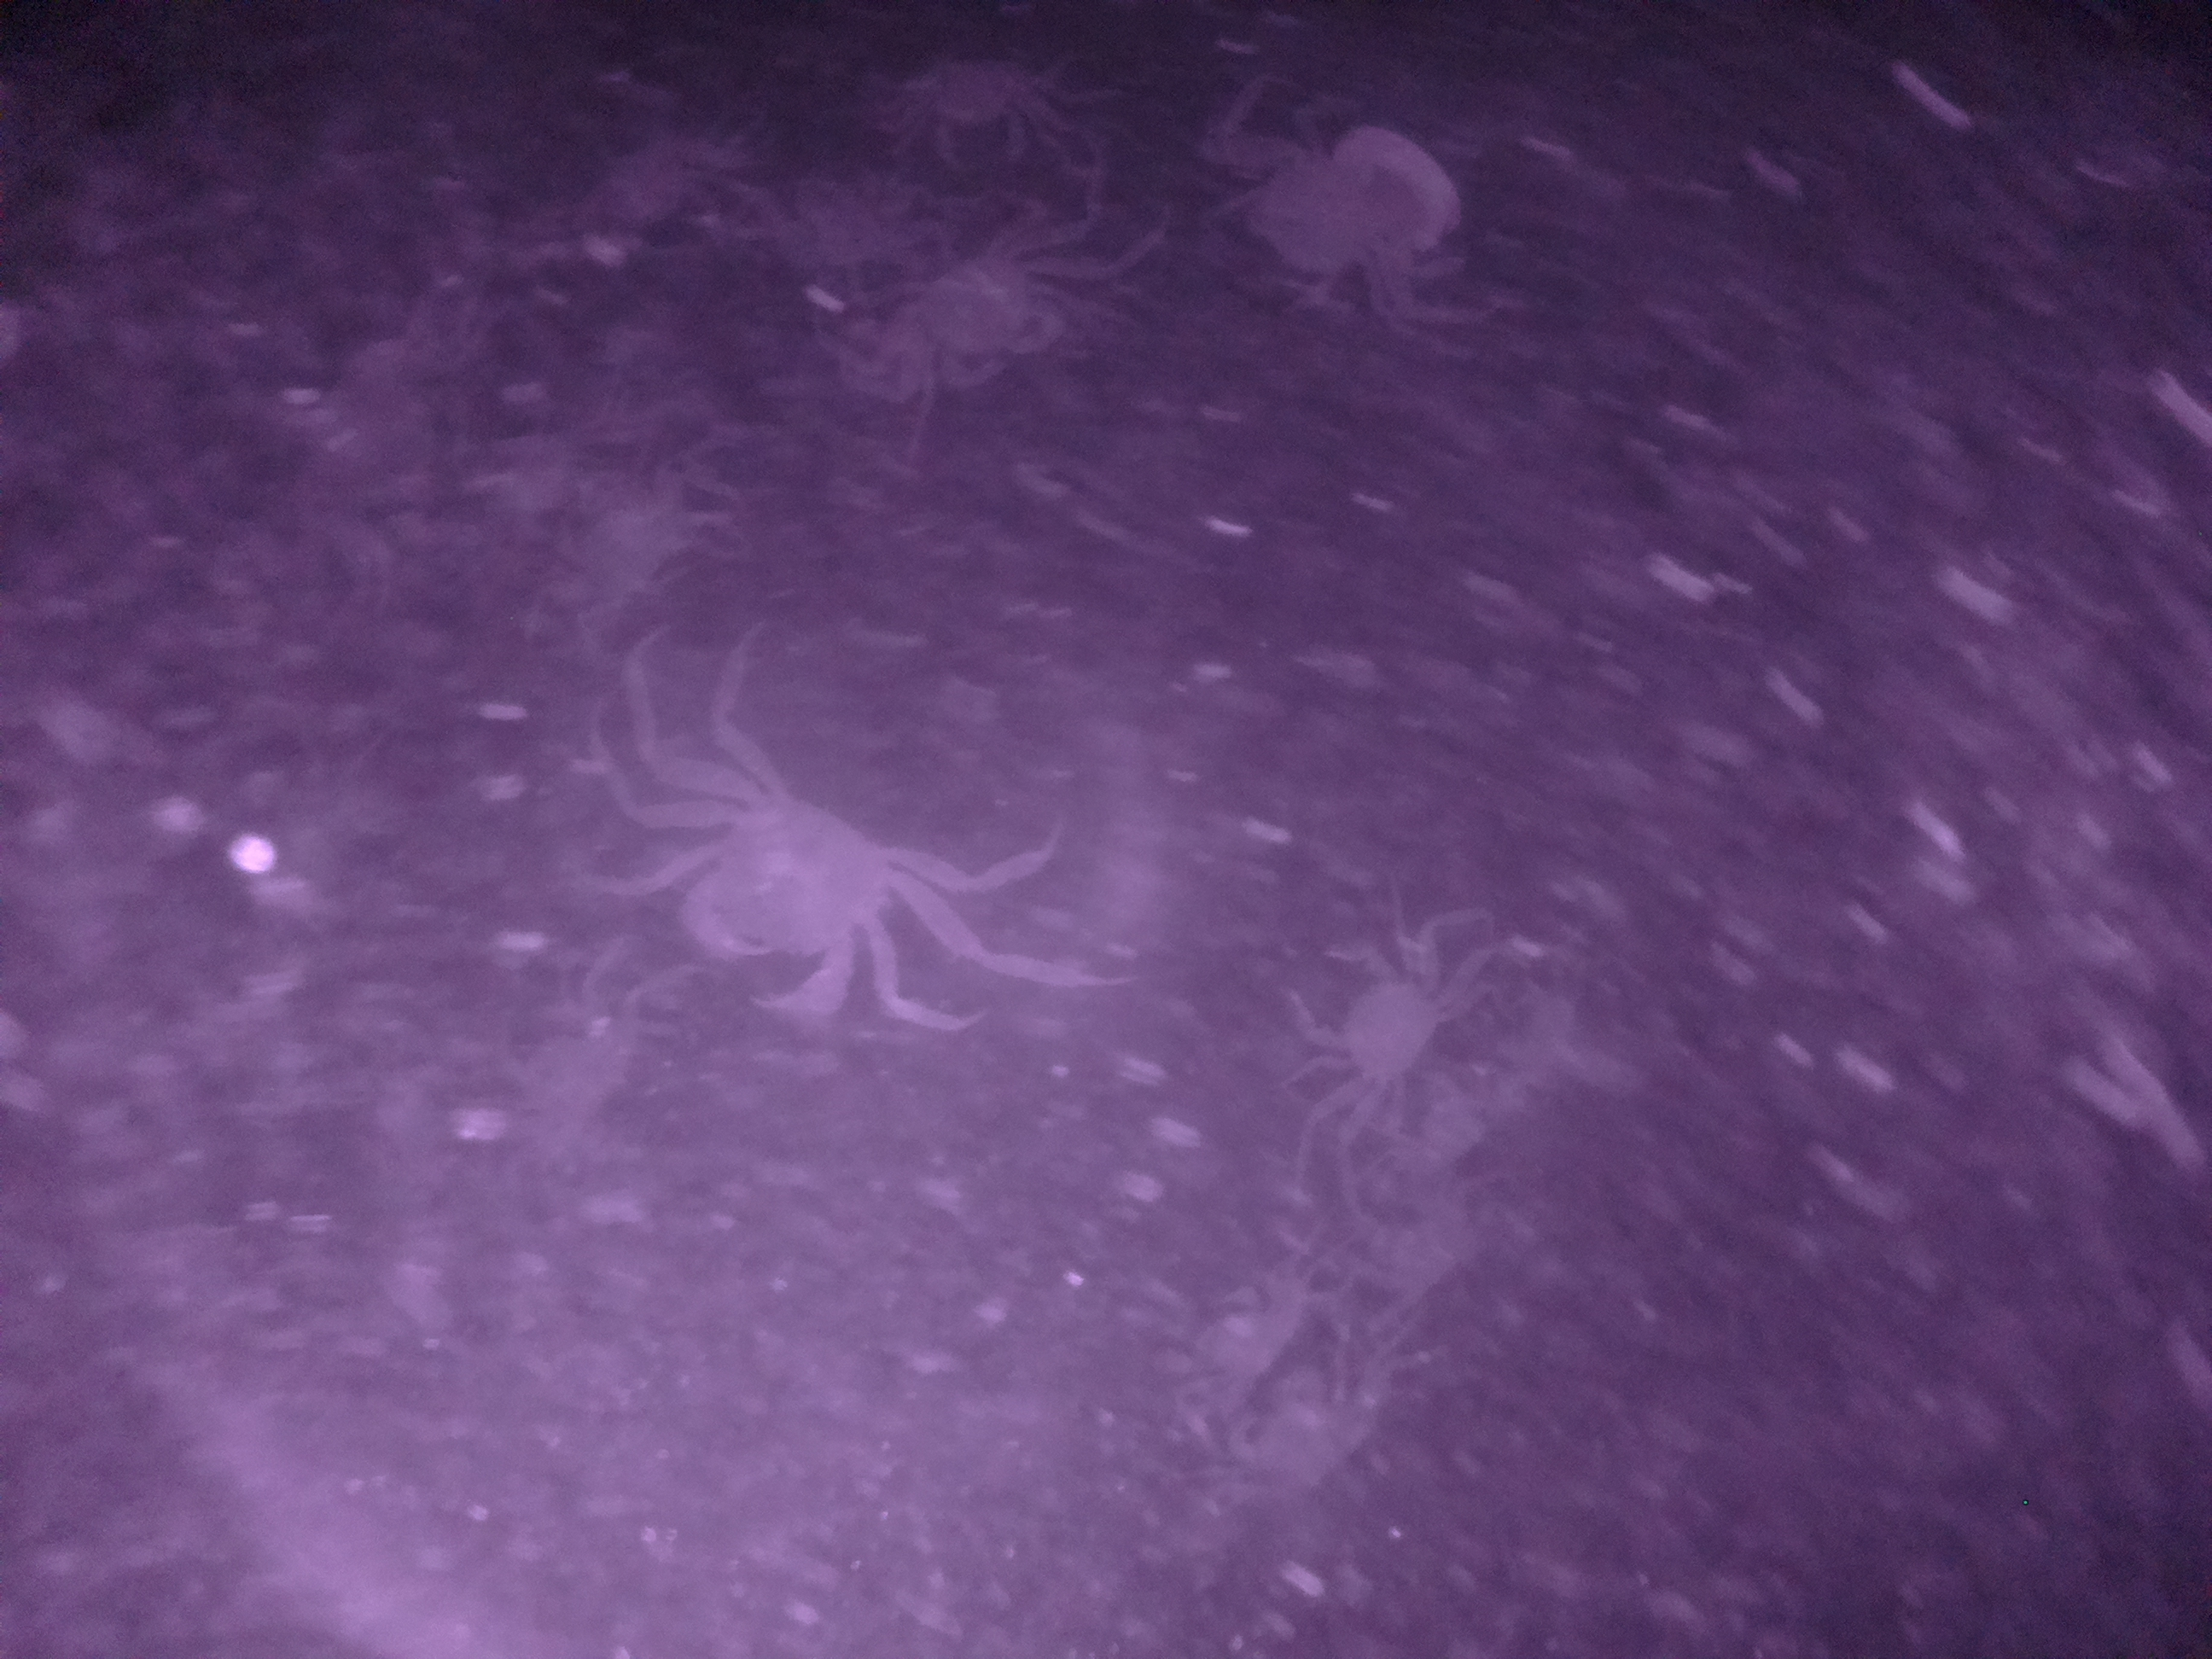Crab: (651, 751, 913, 1032), (1275, 917, 1474, 1117), (890, 218, 1094, 410), (1224, 1352, 1359, 1523)
